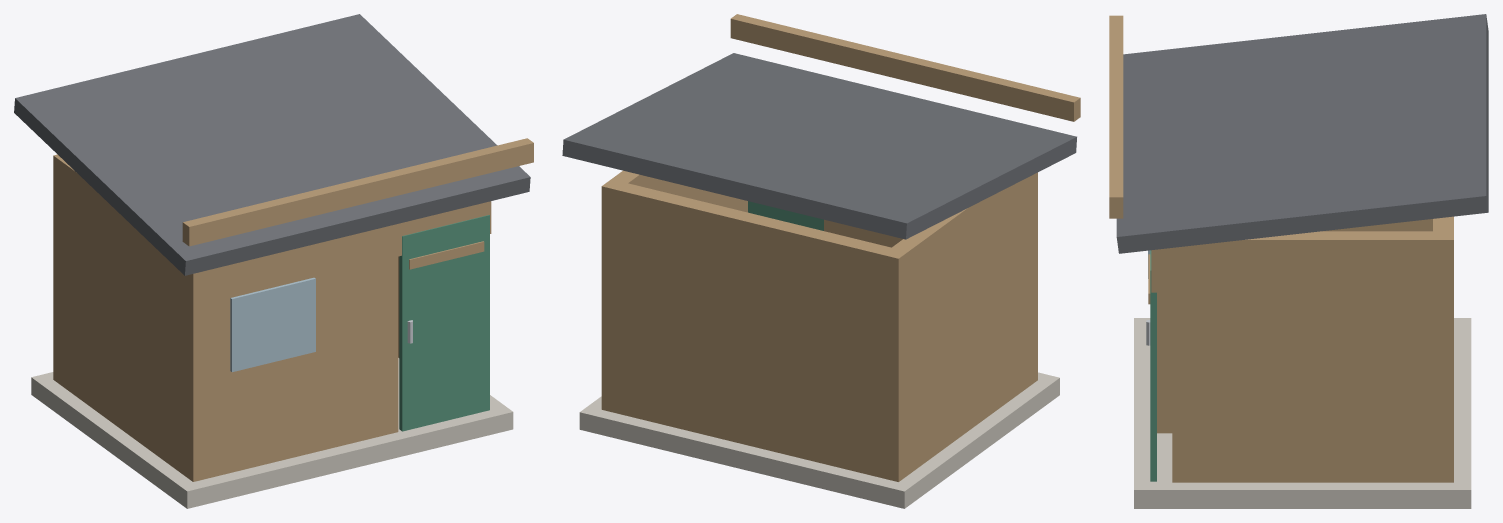
The model's file is racecourse-and-parade-ring-groundsmans-hut-ddba3b9e__38645.glb.
The picture shows the model from 3 angles, left to right: view 1: azimuth 30°, elevation 25°; view 2: azimuth 150°, elevation 25°; view 3: azimuth 270°, elevation 25°; orthographic projection. The views are drawn at different scales.
Parts seen in each view (by area): view 1: groundsmans-hut, door/green, door/timber; view 2: groundsmans-hut, door/green; view 3: groundsmans-hut, door/green.
Boxes of the visible parts, x1=… form: groundsmans-hut: x1=14, y1=14, x2=533, y2=508; door/green: x1=399, y1=215, x2=489, y2=431; door/timber: x1=409, y1=241, x2=484, y2=269; groundsmans-hut: x1=562, y1=14, x2=1080, y2=508; door/green: x1=748, y1=201, x2=823, y2=230; groundsmans-hut: x1=1109, y1=14, x2=1488, y2=508; door/green: x1=1150, y1=250, x2=1156, y2=481.
Size of the model in its own units: 3.7 by 3.01 by 3.26.
